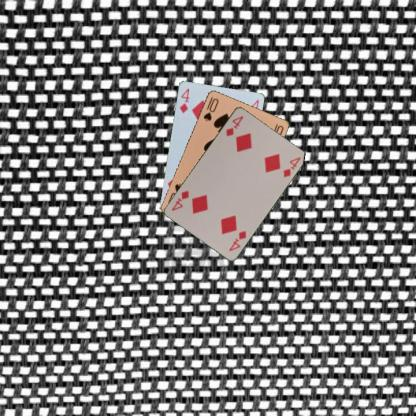10s: (200, 94, 219, 123)
4d: (223, 113, 244, 138), (226, 228, 247, 252), (176, 85, 190, 114)
